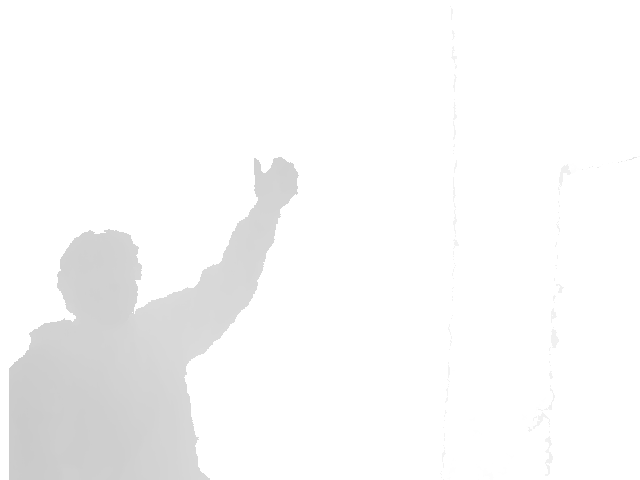hand: (251, 155, 299, 208)
head: (56, 229, 143, 324)
person: (8, 155, 301, 480)
